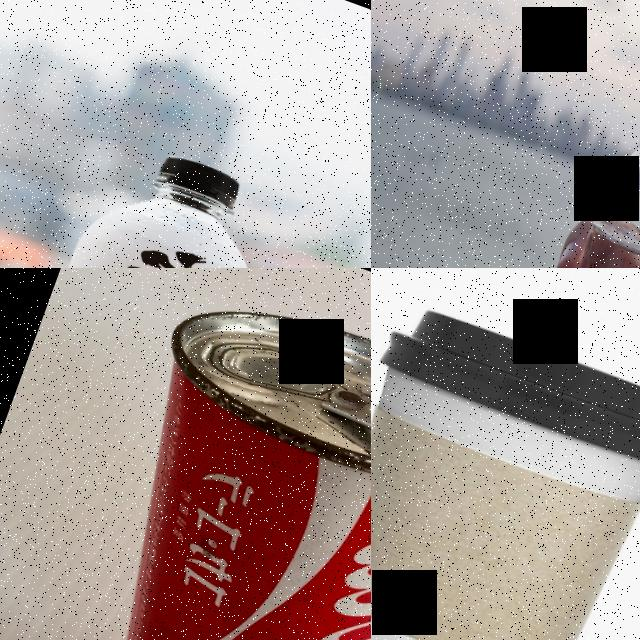bottle: (0, 128, 290, 268), (478, 54, 640, 268)
can: (3, 271, 371, 640)
cup: (371, 286, 640, 640)
